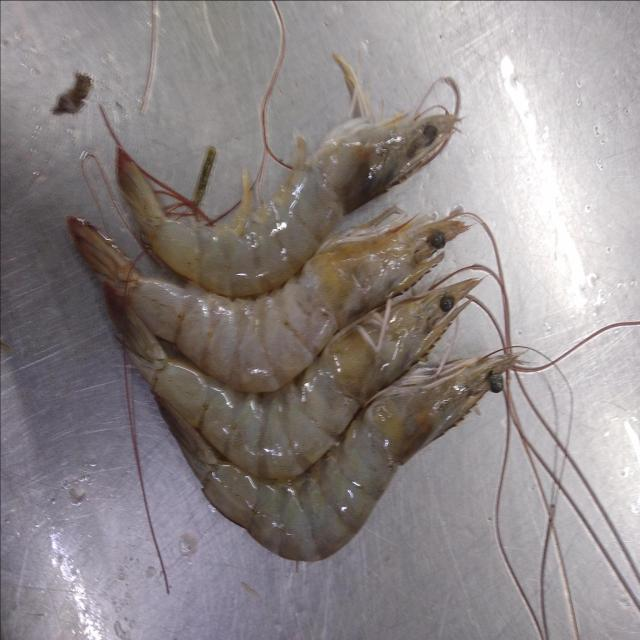shrimp: (118, 78, 459, 297), (106, 278, 478, 478), (164, 353, 515, 560), (68, 213, 468, 392)
